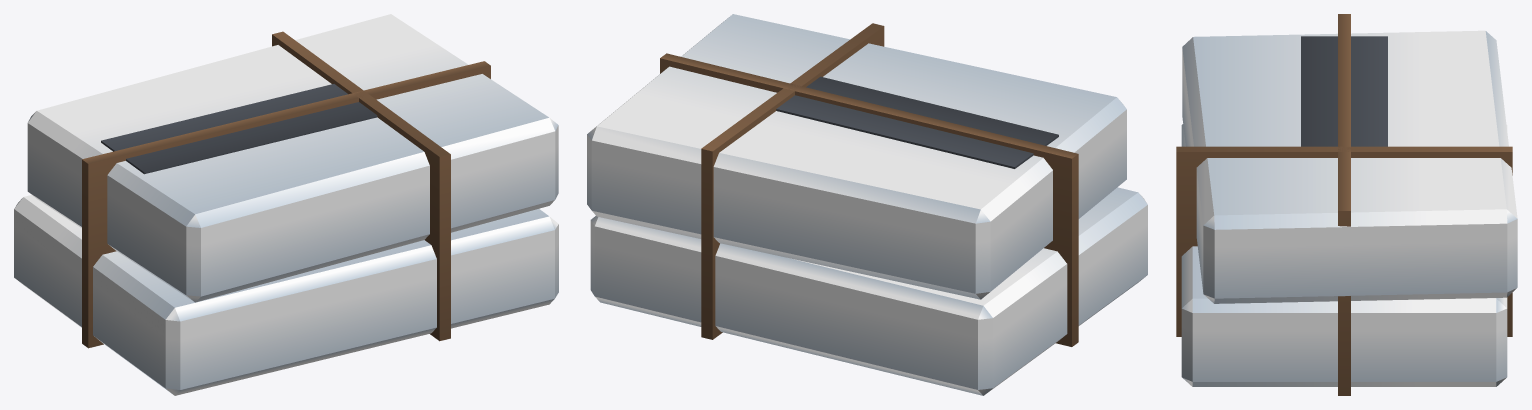
The model's file is ck_newspaper_bundle.fbx.
3 renders of one model, left to right at view 1: azimuth 30°, elevation 25°; view 2: azimuth 150°, elevation 25°; view 3: azimuth 270°, elevation 25°, orthographic. The views are drawn at different scales.
Visible parts, largest first — view 1: ck_newspaper_bundle; view 2: ck_newspaper_bundle; view 3: ck_newspaper_bundle.
Boxes of the visible parts, bbox=[...] form: ck_newspaper_bundle: bbox=[14, 14, 558, 395]; ck_newspaper_bundle: bbox=[587, 14, 1147, 395]; ck_newspaper_bundle: bbox=[1176, 14, 1517, 395].
Bounding box in the file's own units: 140 × 60.3 × 101.
